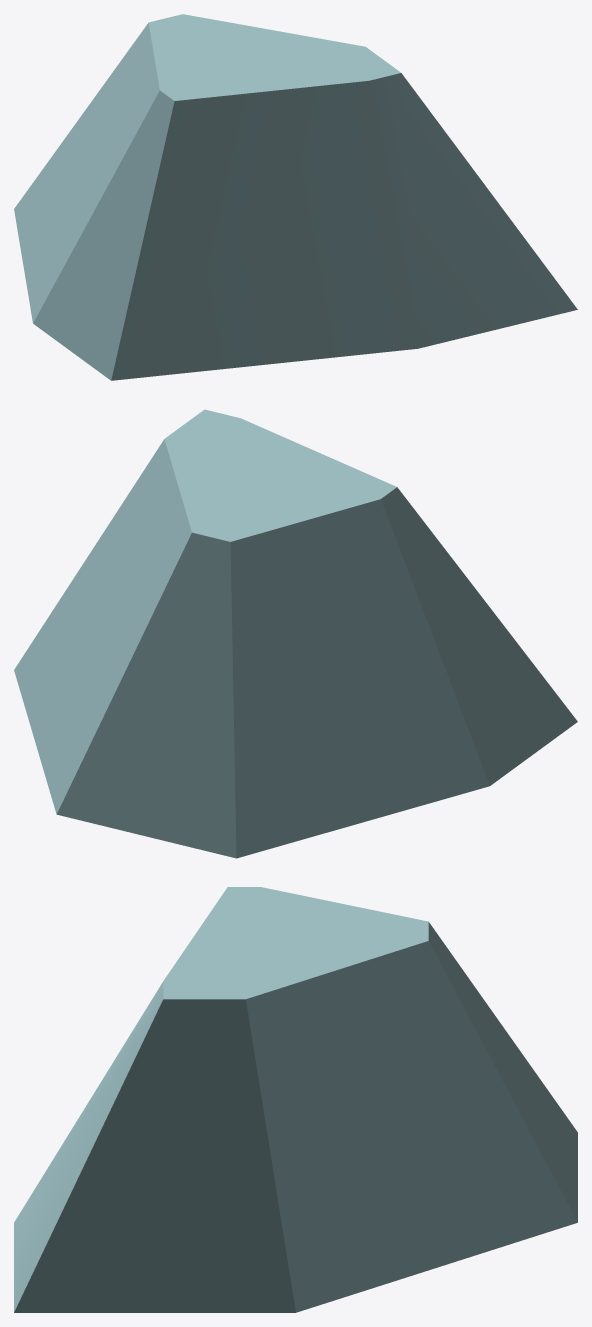
Rendered from stone_small2.obj.
The picture shows the model from 3 angles, top to bottom: view 1: azimuth 30°, elevation 25°; view 2: azimuth 150°, elevation 25°; view 3: azimuth 270°, elevation 25°; orthographic projection. The views are drawn at different scales.
Parts seen in each view (by area): view 1: stone_small2; view 2: stone_small2; view 3: stone_small2.
Part boxes in pixels (x1=…): stone_small2: x1=14, y1=14, x2=577, y2=380; stone_small2: x1=14, y1=409, x2=577, y2=858; stone_small2: x1=14, y1=887, x2=577, y2=1312.
Size of the model in its own units: 3.61 by 1.77 by 3.61.
